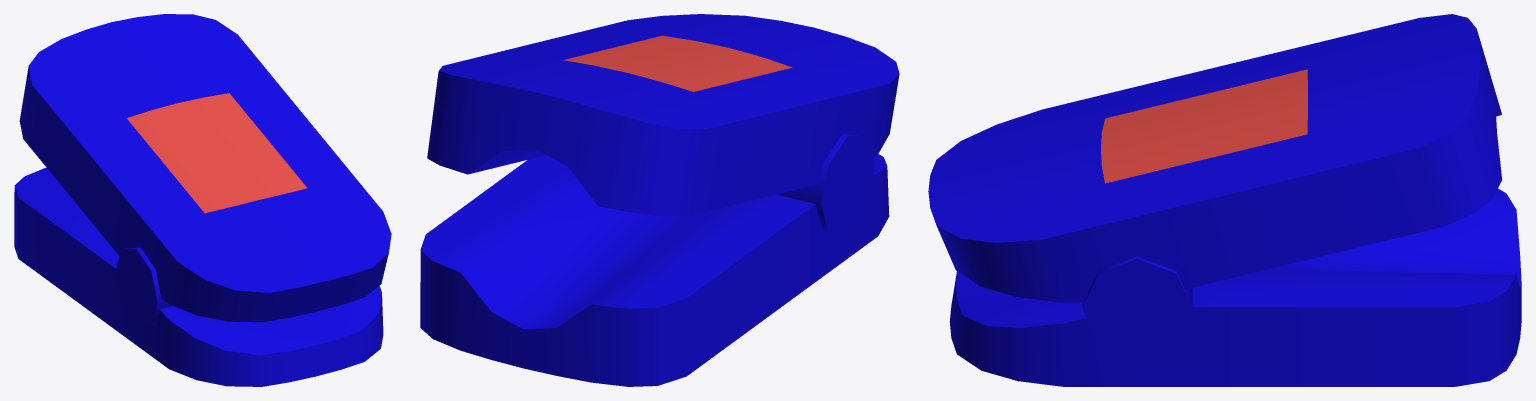
Rendered from PulsioximetroLowPoly.fbx.
The picture shows the model from 3 angles, left to right: view 1: azimuth 30°, elevation 25°; view 2: azimuth 150°, elevation 25°; view 3: azimuth 270°, elevation 25°; orthographic projection. The views are drawn at different scales.
Parts seen in each view (by area): view 1: Arriba.008, AbajoLow, Tapa, Circulo.003; view 2: AbajoLow, Arriba.008, Tapa, Circulo.003; view 3: Arriba.008, AbajoLow, Tapa, Circulo.003.
Part boxes in pixels (x1,y1,x2,y2): Arriba.008: [19, 14, 391, 322]; AbajoLow: [14, 167, 383, 386]; Tapa: [127, 93, 307, 213]; Circulo.003: [115, 247, 172, 325]; AbajoLow: [420, 154, 889, 386]; Arriba.008: [427, 14, 899, 216]; Tapa: [563, 35, 792, 91]; Circulo.003: [777, 134, 874, 233]; Arriba.008: [928, 14, 1502, 302]; AbajoLow: [949, 188, 1521, 386]; Tapa: [1101, 69, 1307, 183]; Circulo.003: [1082, 256, 1192, 358].
Size of the model in its own units: 4.17 by 3.79 by 7.7.
